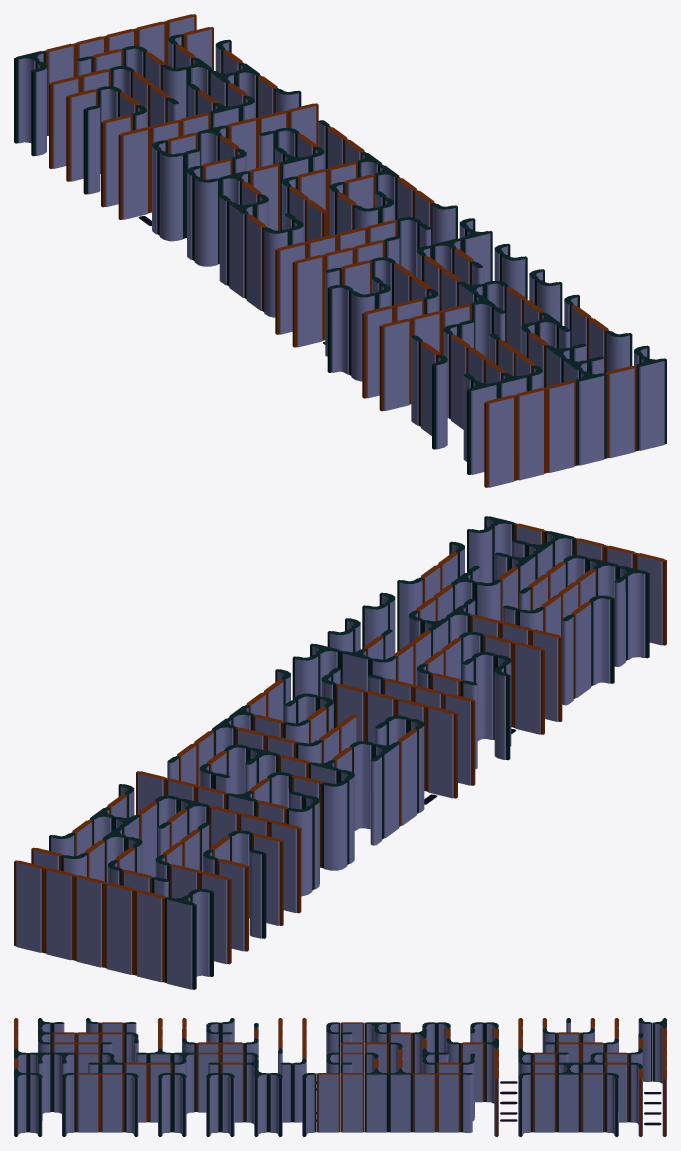
The model's file is W_M_maze_Top_InWall_Collider.fbx.
3 renders of one model, top to bottom at view 1: azimuth 30°, elevation 25°; view 2: azimuth 150°, elevation 25°; view 3: azimuth 270°, elevation 25°, orthographic. The views are drawn at different scales.
Visible parts, largest first — view 1: W_M_maze_Top_InWall_Collider; view 2: W_M_maze_Top_InWall_Collider; view 3: W_M_maze_Top_InWall_Collider.
Boxes of the visible parts, x1=… form: W_M_maze_Top_InWall_Collider: x1=14, y1=14, x2=666, y2=487; W_M_maze_Top_InWall_Collider: x1=14, y1=516, x2=666, y2=989; W_M_maze_Top_InWall_Collider: x1=14, y1=1018, x2=666, y2=1136.
Size of the model in its own units: 9 by 4 by 40.77.
